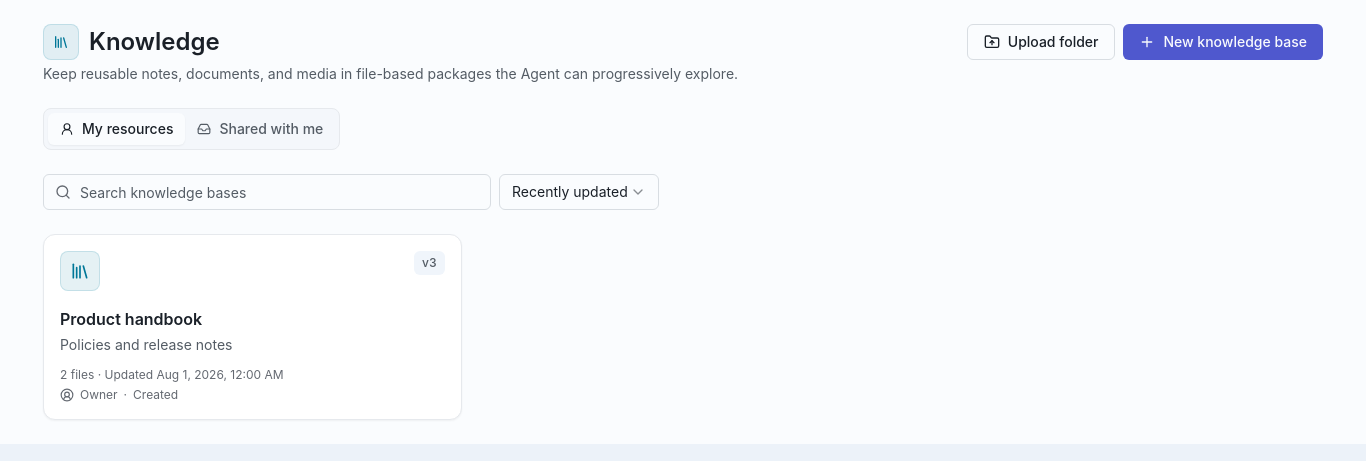
Scenario: Knowledge pages › renders searchable knowledge rows and the dedicated empty state
Check: the text "Product handbook" is shown, box [60,307,202,331]
Check: the text "v3" is shown, box [414,251,445,275]
Type "missing" into the field with placeholder "Search knowledge bases" at (267, 192), box [43,174,491,210]
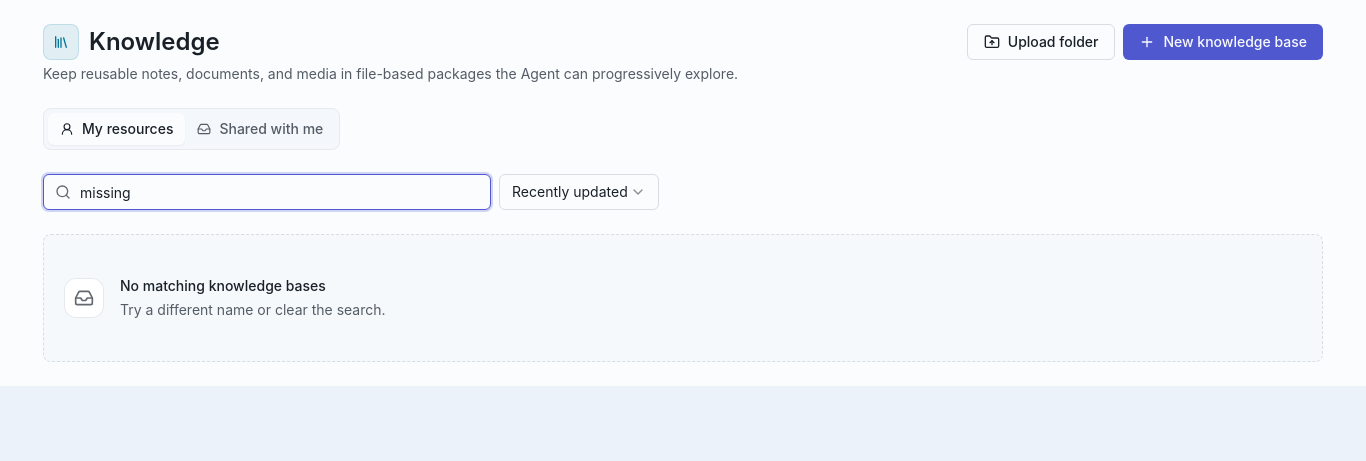
Check: the heading "No matching knowledge bases" is shown, box [120,277,326,294]
